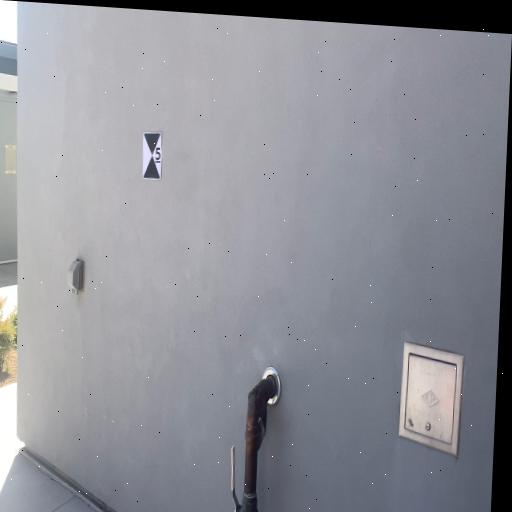target5: (143, 131, 162, 179)
